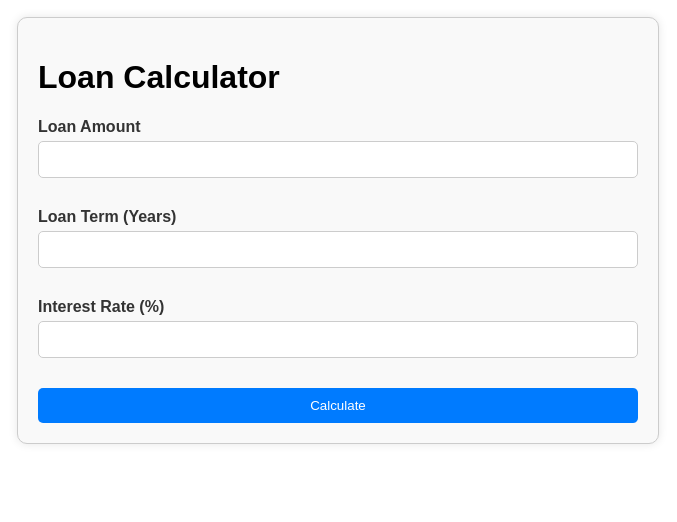
it: App Component › displays error message for invalid input
In the number field labelled "Loan Amount": coordinates (338, 159) [38,141,638,178], type "-5000"
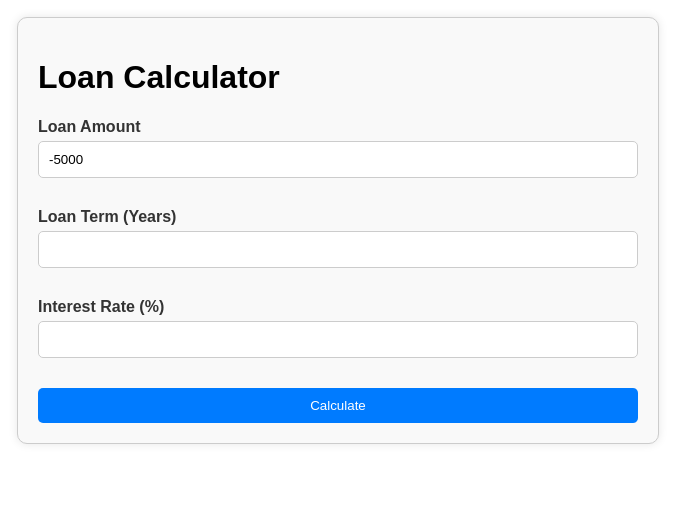
In the number field labelled "Loan Term (Years)": coordinates (338, 249) [38,231,638,268], type "5"
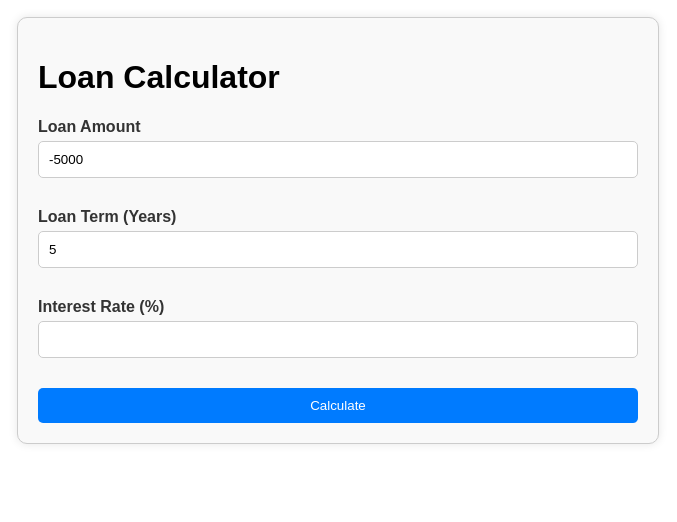
In the number field labelled "Interest Rate (%)": coordinates (338, 339) [38,321,638,358], type "5"
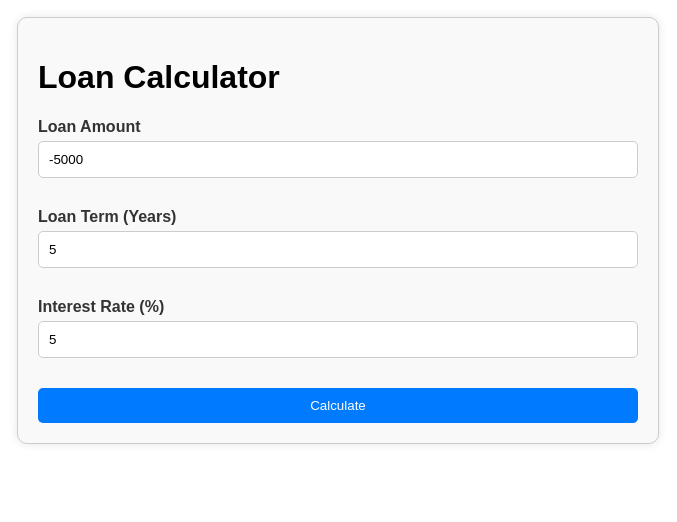
Click the button "Calculate": coordinates (338, 405) [38,388,638,423]
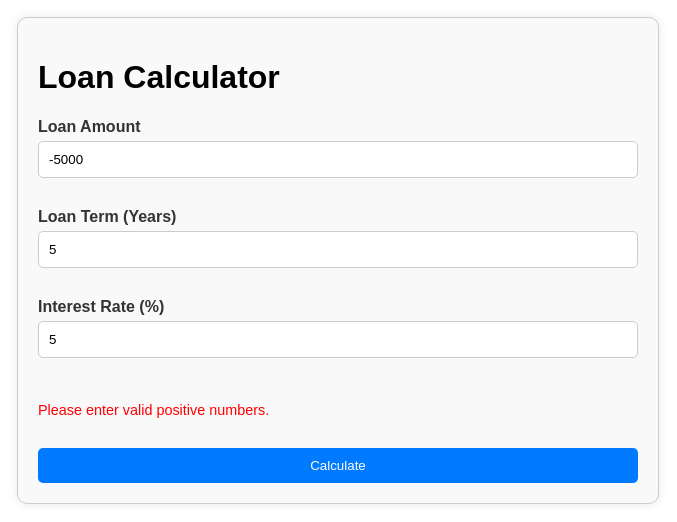
Check: the text "Please enter valid positive numbers." is shown, box [38,402,269,418]
